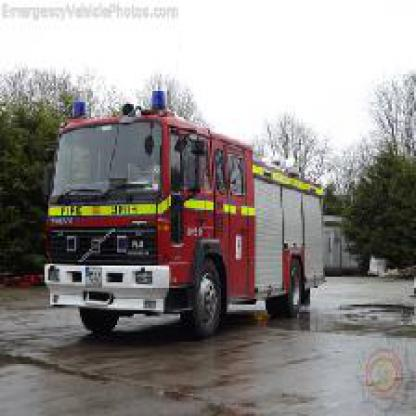emergency: (37, 91, 355, 373)
